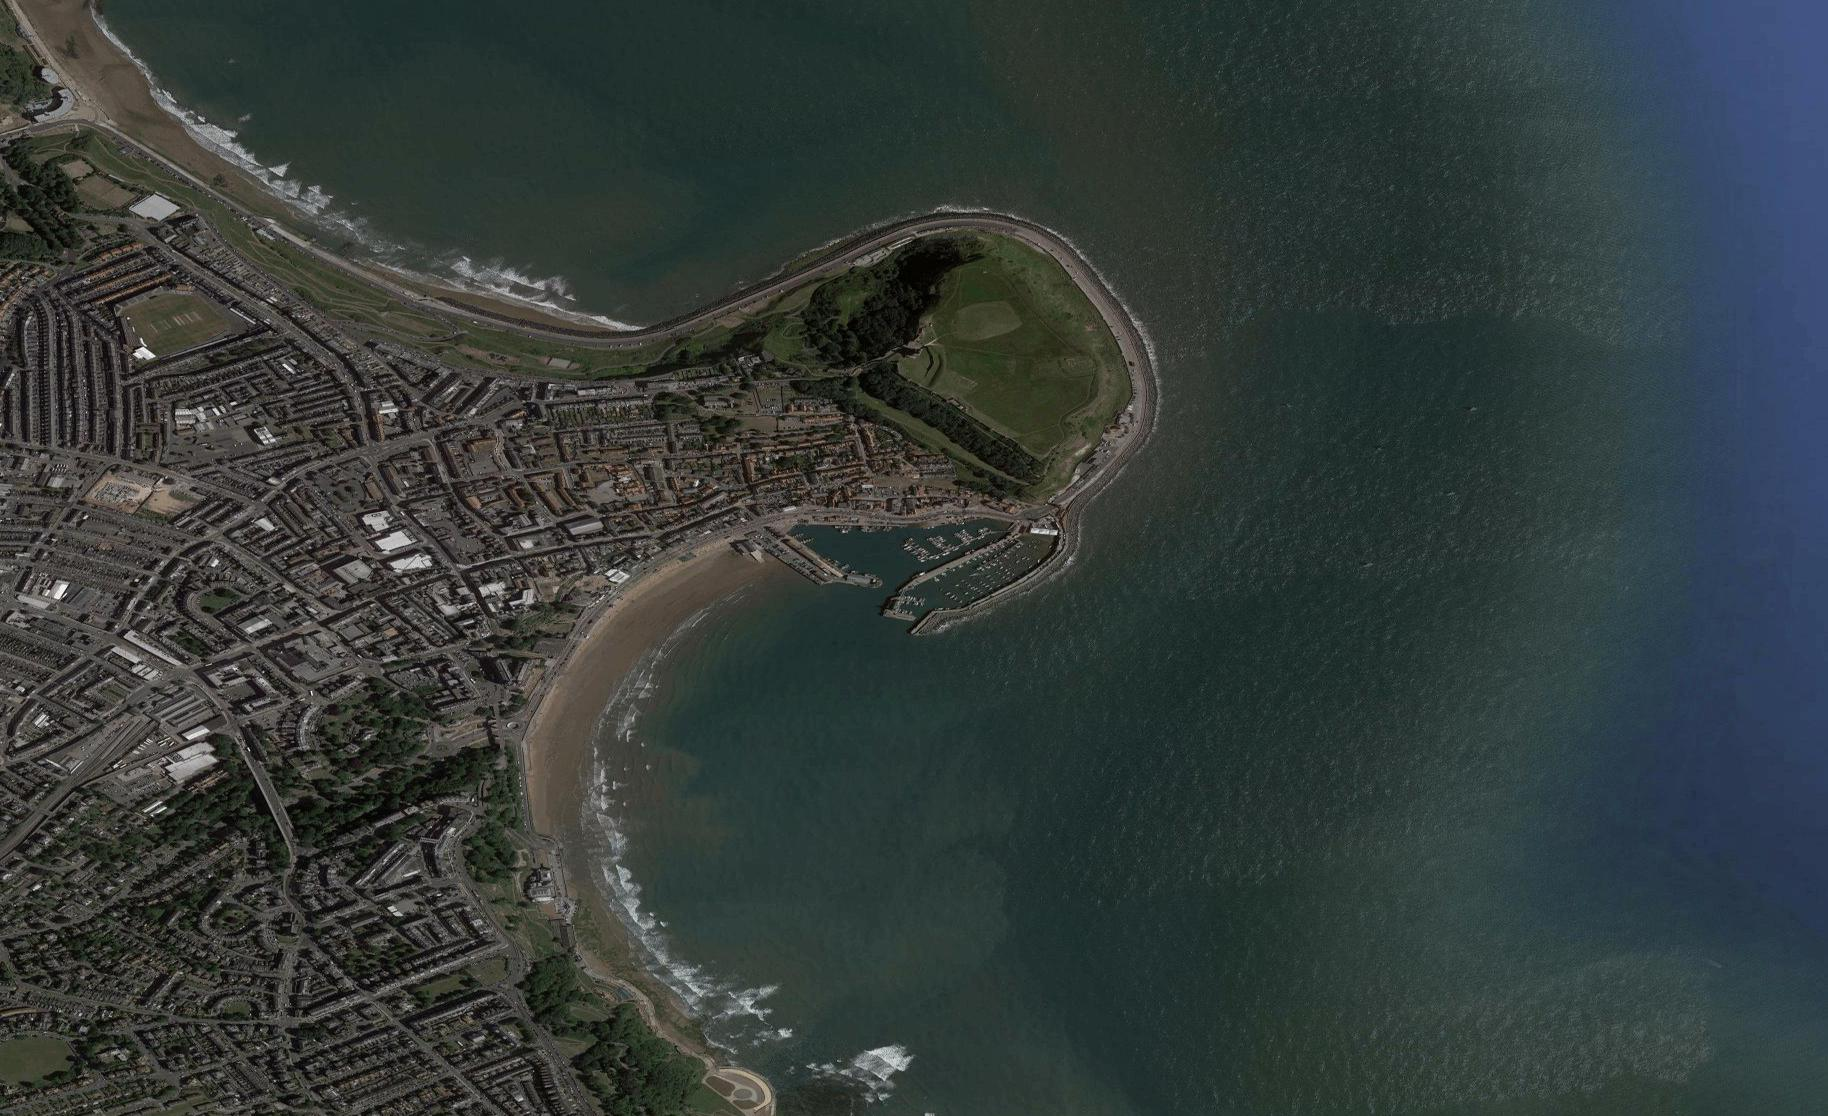harbor: (757, 488, 1084, 643)
motorway: (975, 208, 1092, 292), (239, 213, 360, 275), (1090, 291, 1152, 412), (1076, 410, 1146, 512), (853, 205, 974, 264), (730, 245, 851, 304), (610, 295, 731, 354), (366, 268, 491, 322), (142, 144, 242, 211), (486, 308, 608, 352)
